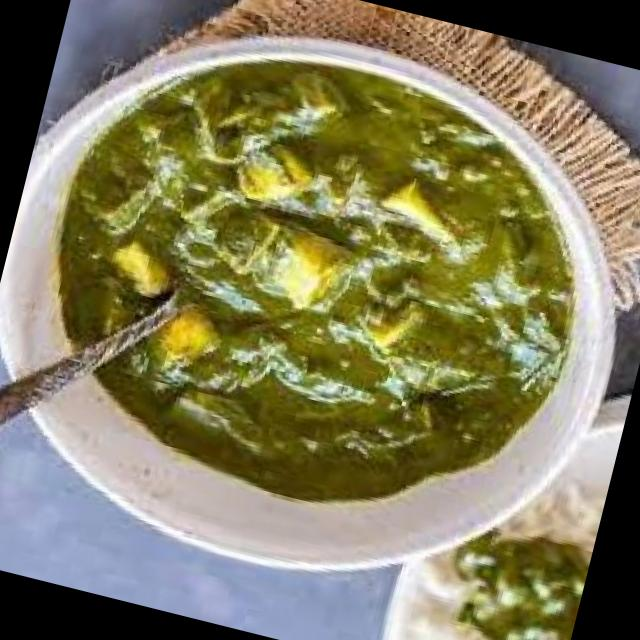palak_paneer: (7, 6, 622, 558), (426, 521, 592, 640)
